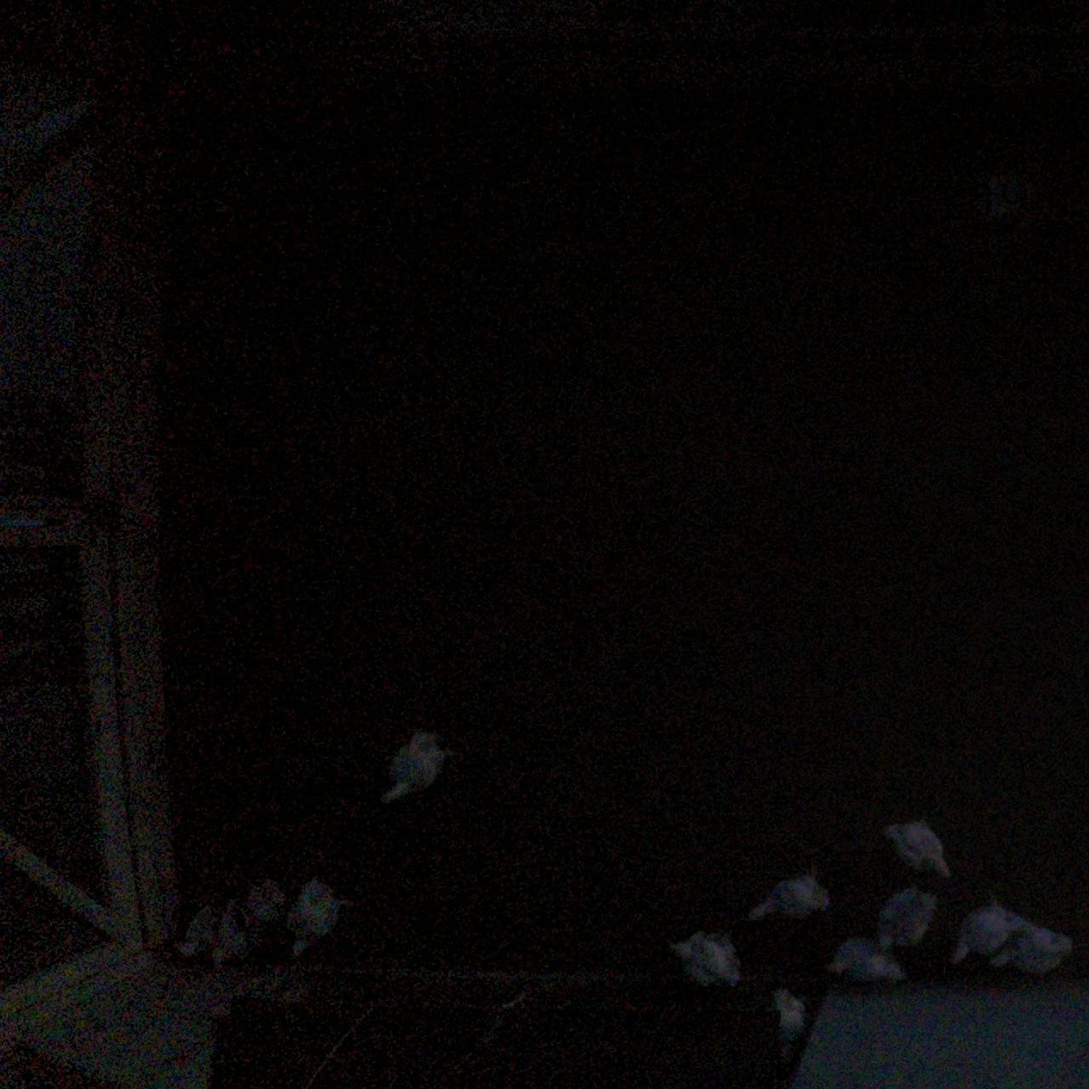chicken: (955, 154, 1064, 232), (371, 727, 459, 815), (285, 877, 355, 964), (746, 869, 839, 928), (878, 821, 964, 884), (667, 933, 749, 993), (950, 903, 1025, 967), (990, 924, 1077, 979), (875, 884, 942, 954), (206, 889, 260, 974), (829, 940, 907, 992), (175, 906, 223, 967), (244, 881, 295, 935), (775, 991, 808, 1058)
